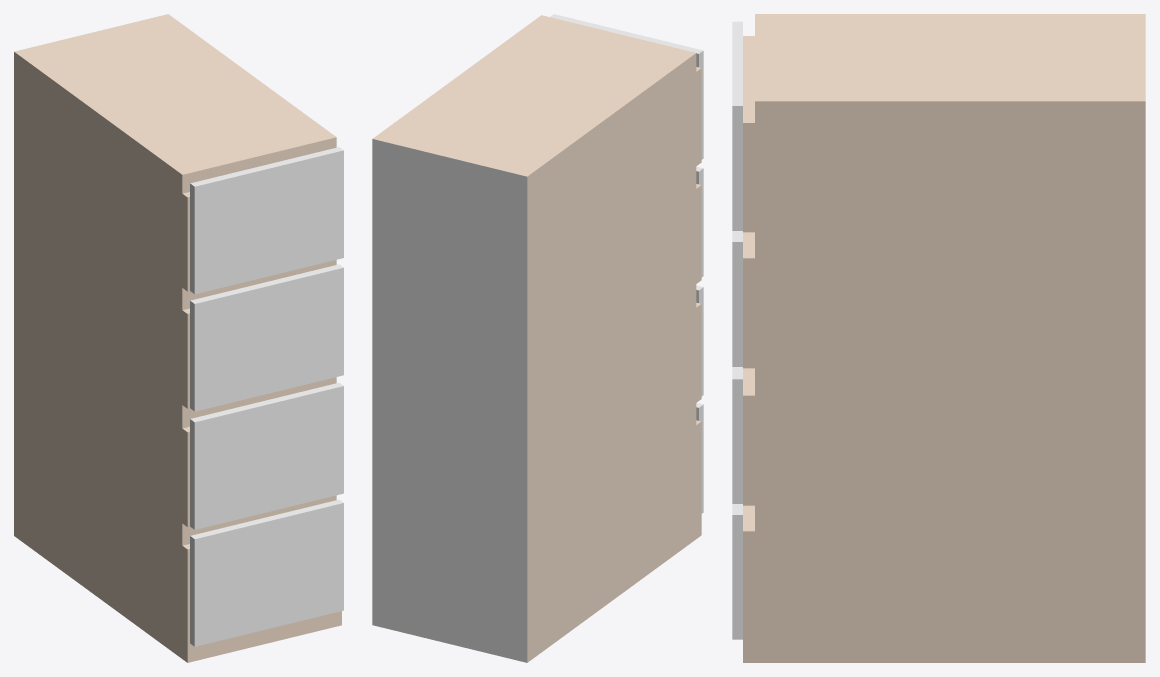
File: KTCH_ELIX_Cabinet_30_60_90_Drawers_4.FBX
3 renders of one model, left to right at view 1: azimuth 30°, elevation 25°; view 2: azimuth 150°, elevation 25°; view 3: azimuth 270°, elevation 25°, orthographic. The views are drawn at different scales.
Visible parts, largest first — view 1: KTCH_ELIX_Cabinet_30_60_90_Drawers_4; view 2: KTCH_ELIX_Cabinet_30_60_90_Drawers_4; view 3: KTCH_ELIX_Cabinet_30_60_90_Drawers_4.
Boxes of the visible parts, <box> form: KTCH_ELIX_Cabinet_30_60_90_Drawers_4: <box>14,14,343,662</box>; KTCH_ELIX_Cabinet_30_60_90_Drawers_4: <box>372,14,703,662</box>; KTCH_ELIX_Cabinet_30_60_90_Drawers_4: <box>732,14,1145,662</box>.
Size of the model in its own units: 30 by 60 by 90.
